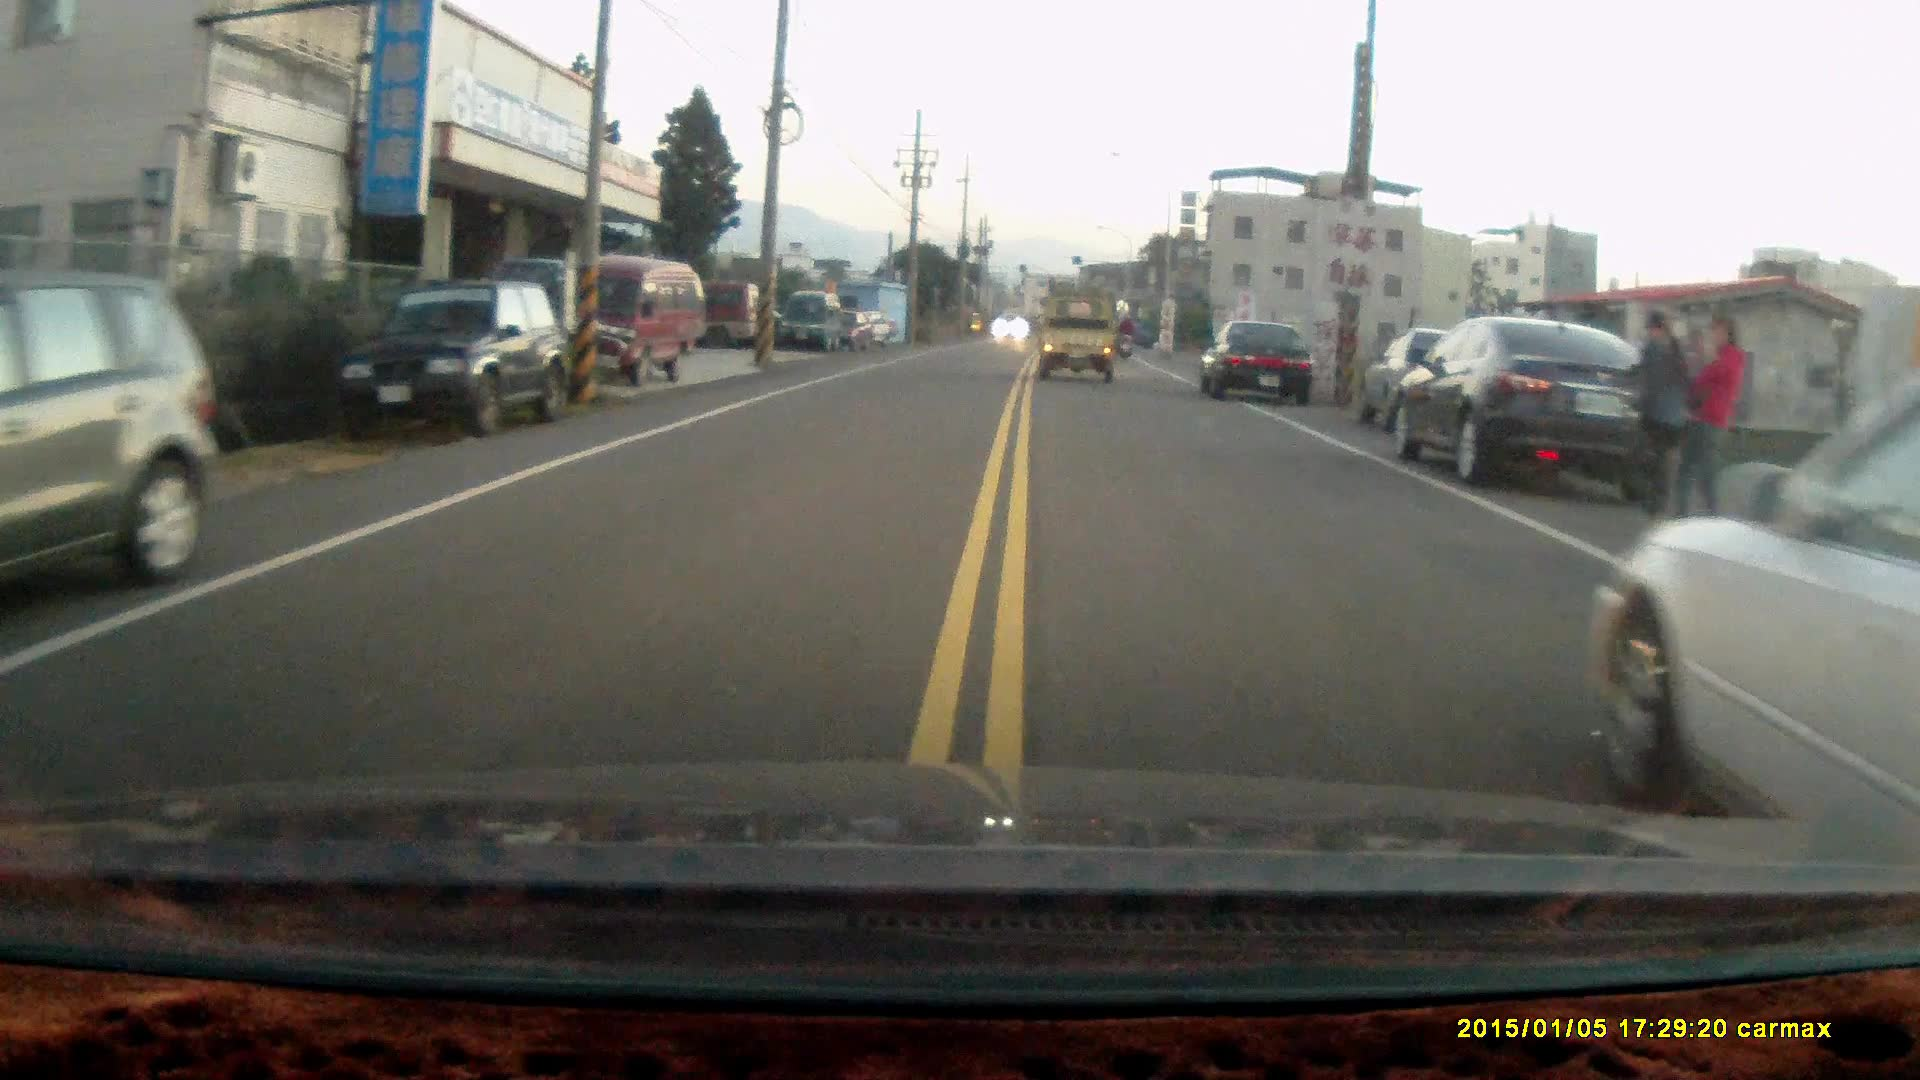pedestrian: (1615, 309, 1693, 535), (1676, 312, 1747, 534)
vehicle: (1587, 359, 1920, 838), (2, 265, 222, 600), (1385, 318, 1691, 490), (340, 279, 562, 441), (538, 253, 710, 384), (1200, 319, 1317, 405), (1037, 289, 1123, 388), (778, 292, 848, 352)
